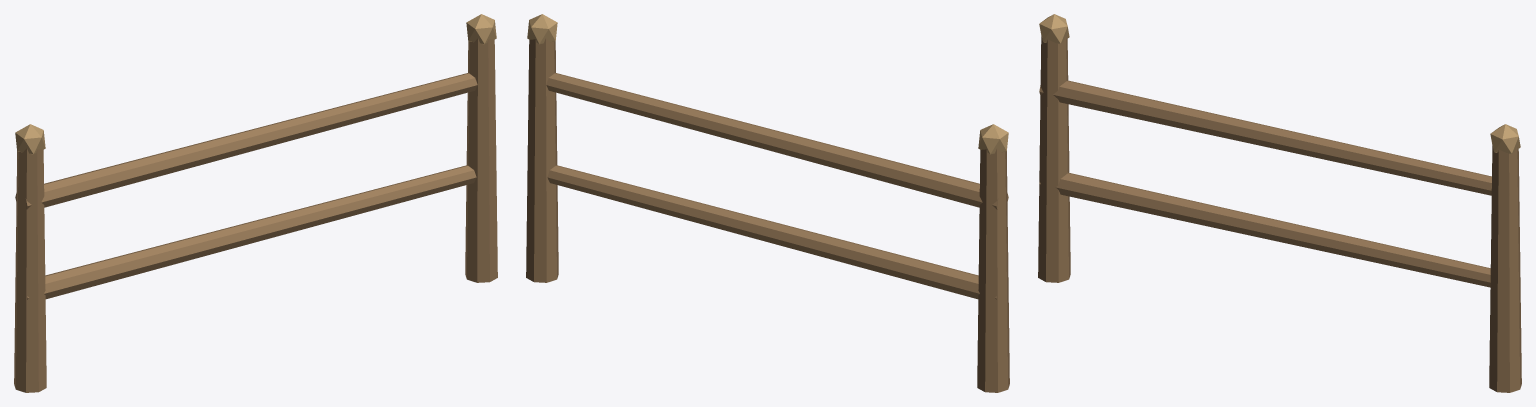
Rendered from fence.glb.
The picture shows the model from 3 angles, left to right: view 1: azimuth 30°, elevation 25°; view 2: azimuth 150°, elevation 25°; view 3: azimuth 330°, elevation 25°; orthographic projection.
Parts seen in each view (by area): view 1: fence; view 2: fence; view 3: fence.
Part boxes in pixels (left/top/right/bottom): fence: left=14, top=14, right=497, bottom=392; fence: left=526, top=14, right=1009, bottom=392; fence: left=1038, top=14, right=1521, bottom=392.
Bounding box in the file's own units: 2.13 × 1.11 × 0.13.
